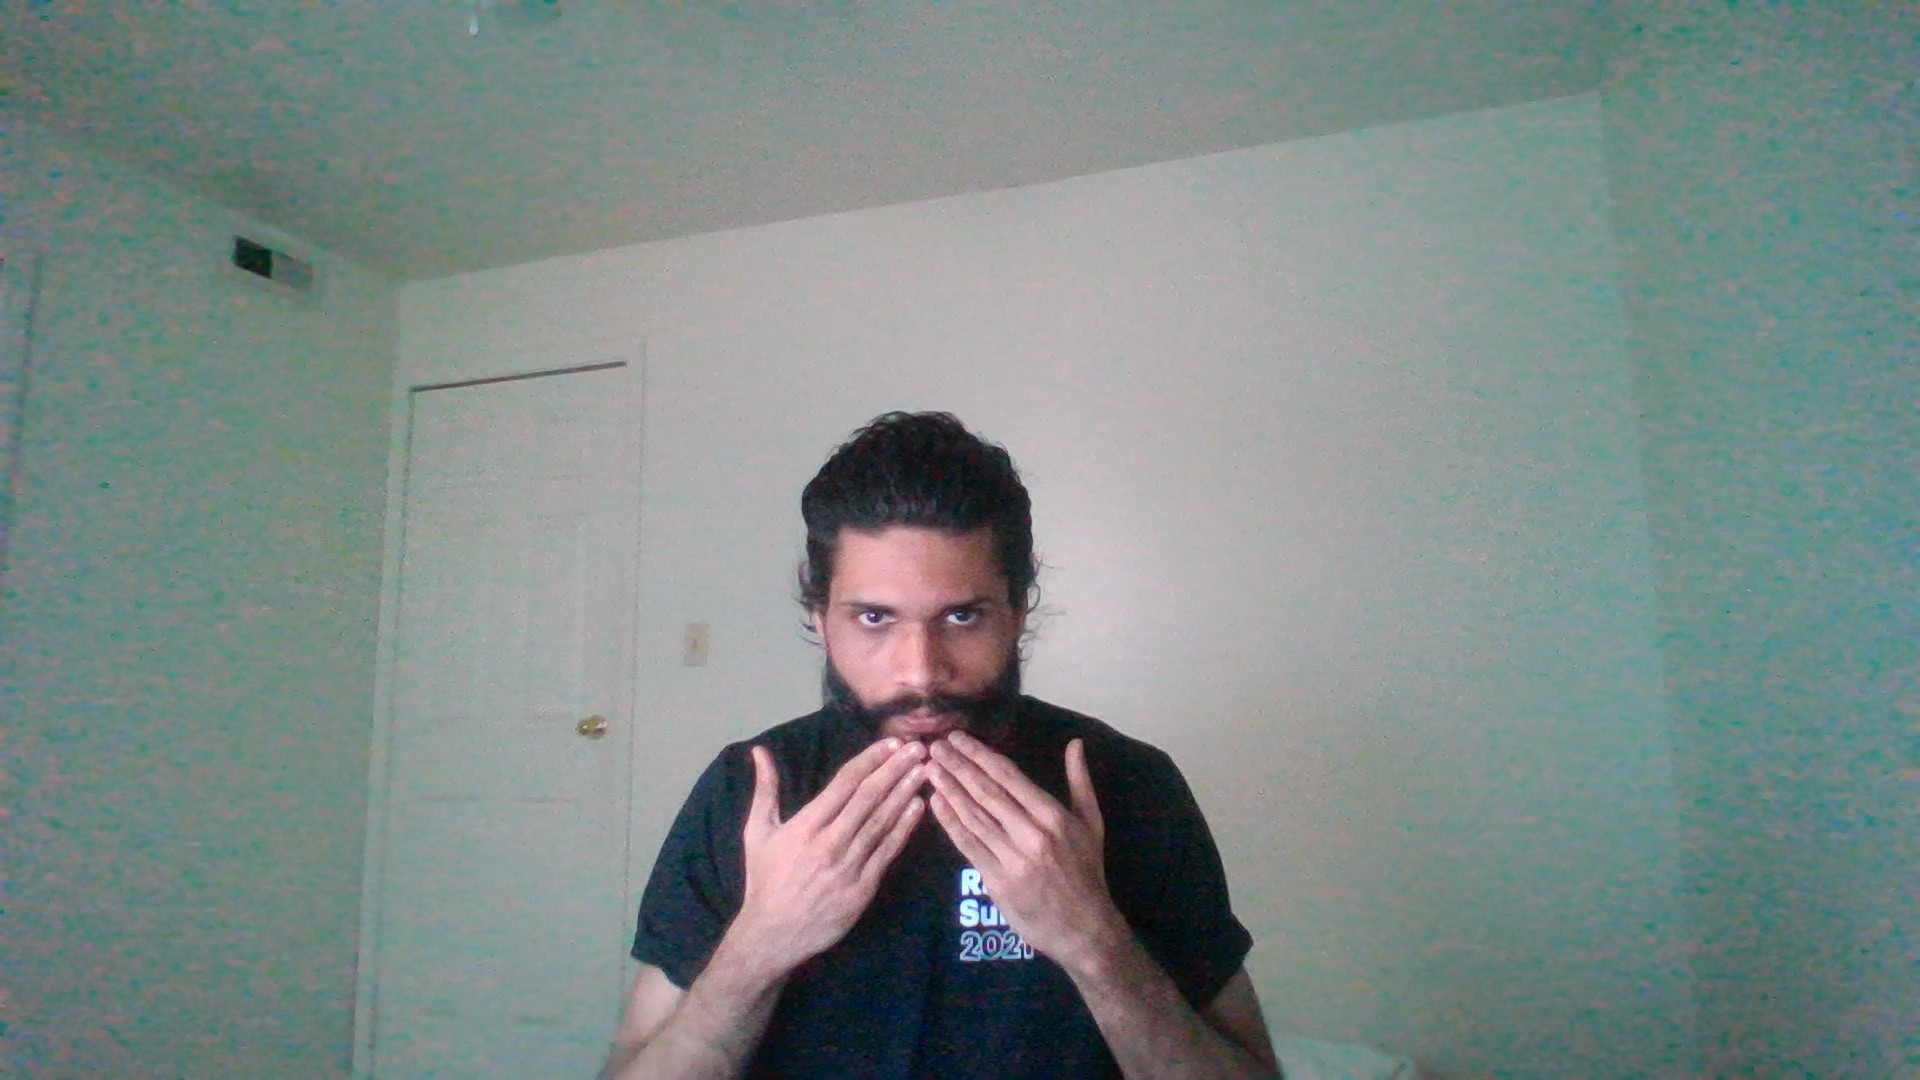Thank You: (727, 691, 1143, 963)
